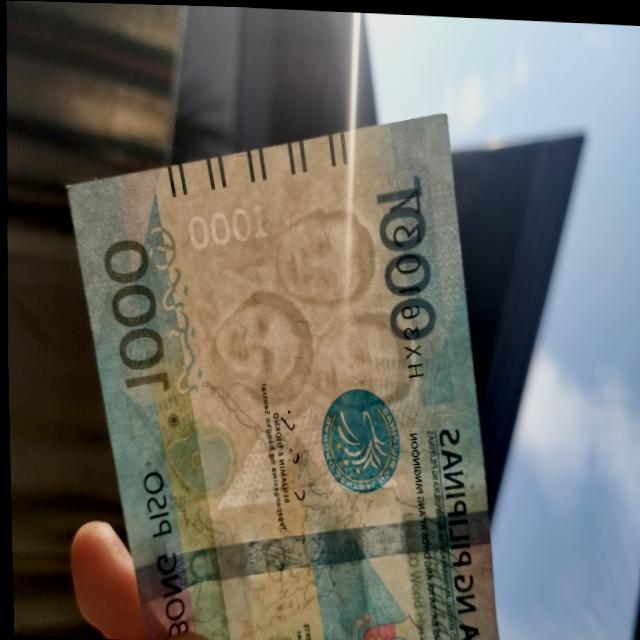security_thread: (130, 504, 487, 602)
see_through_mark: (137, 209, 209, 402)
value_watermark: (183, 192, 277, 252)
watermark: (204, 195, 416, 430)
